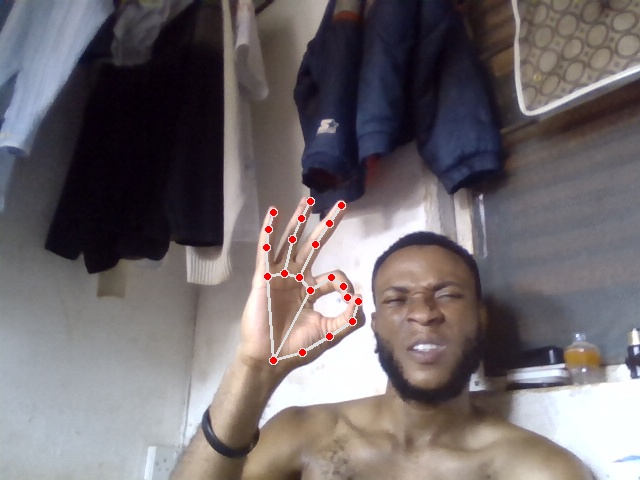okay: (240, 195, 366, 373)
